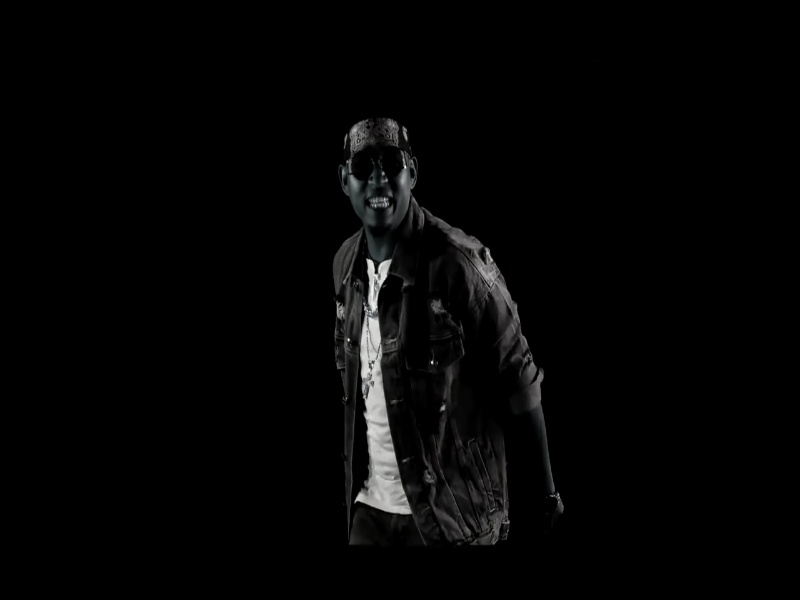TsisyArotava: (322, 114, 426, 249)
